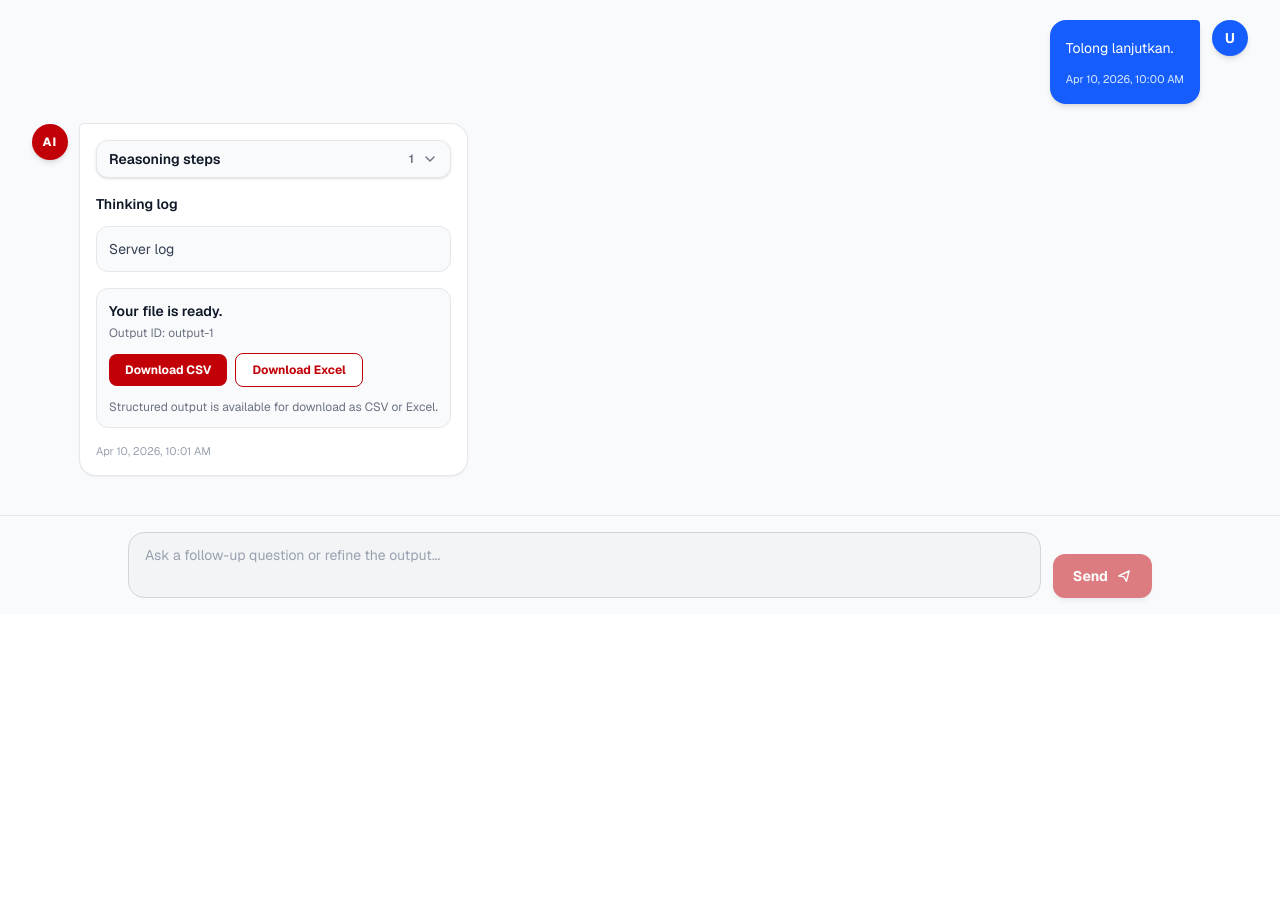
it: SessionConversationView › normalizes non-object output_json into a result object
Type "scalar out" into the text box named "Follow-up message" at (584, 565), box [128,532,1041,598]
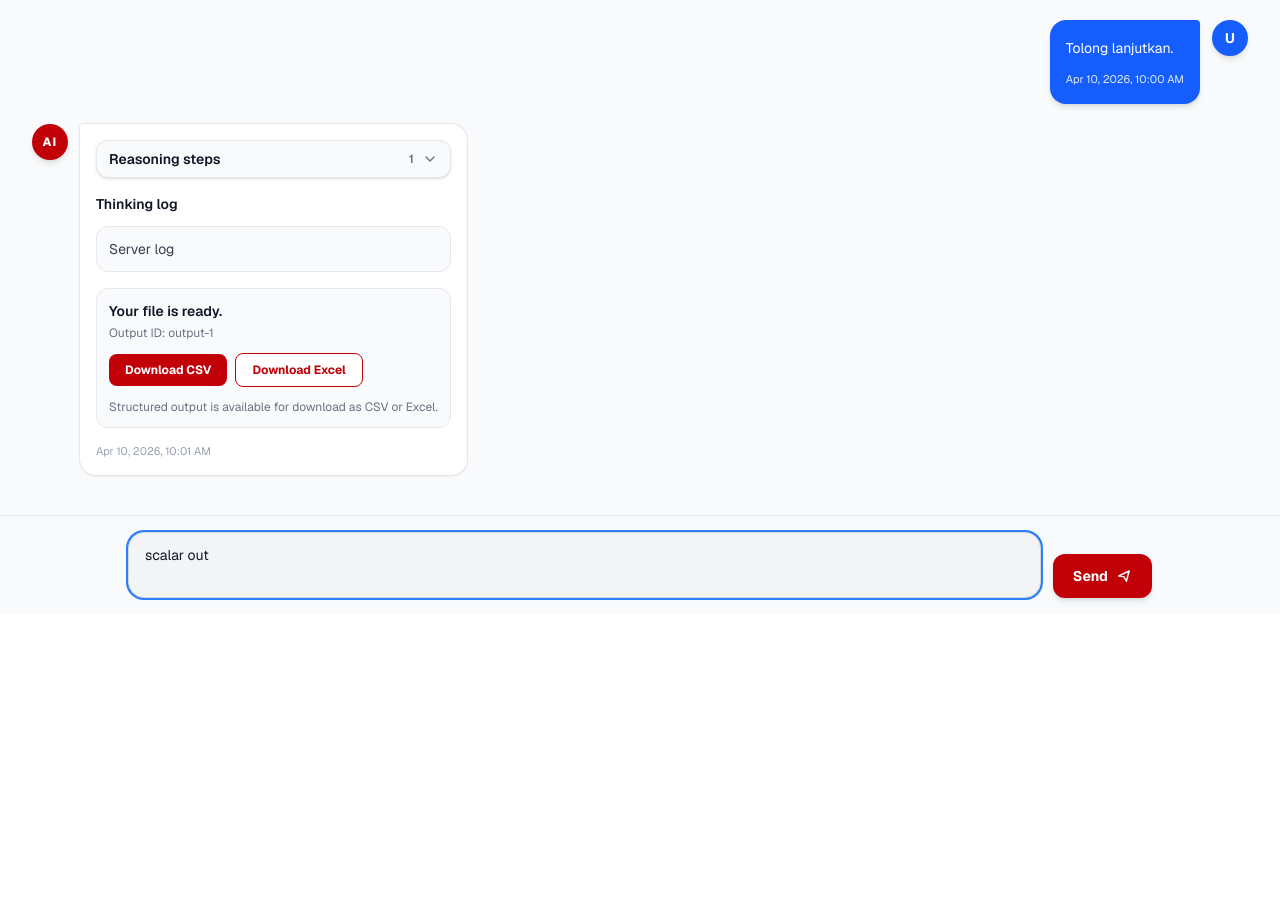
Click the button "Send" at (1102, 576), box [1053,554,1152,598]
(page scrolled)
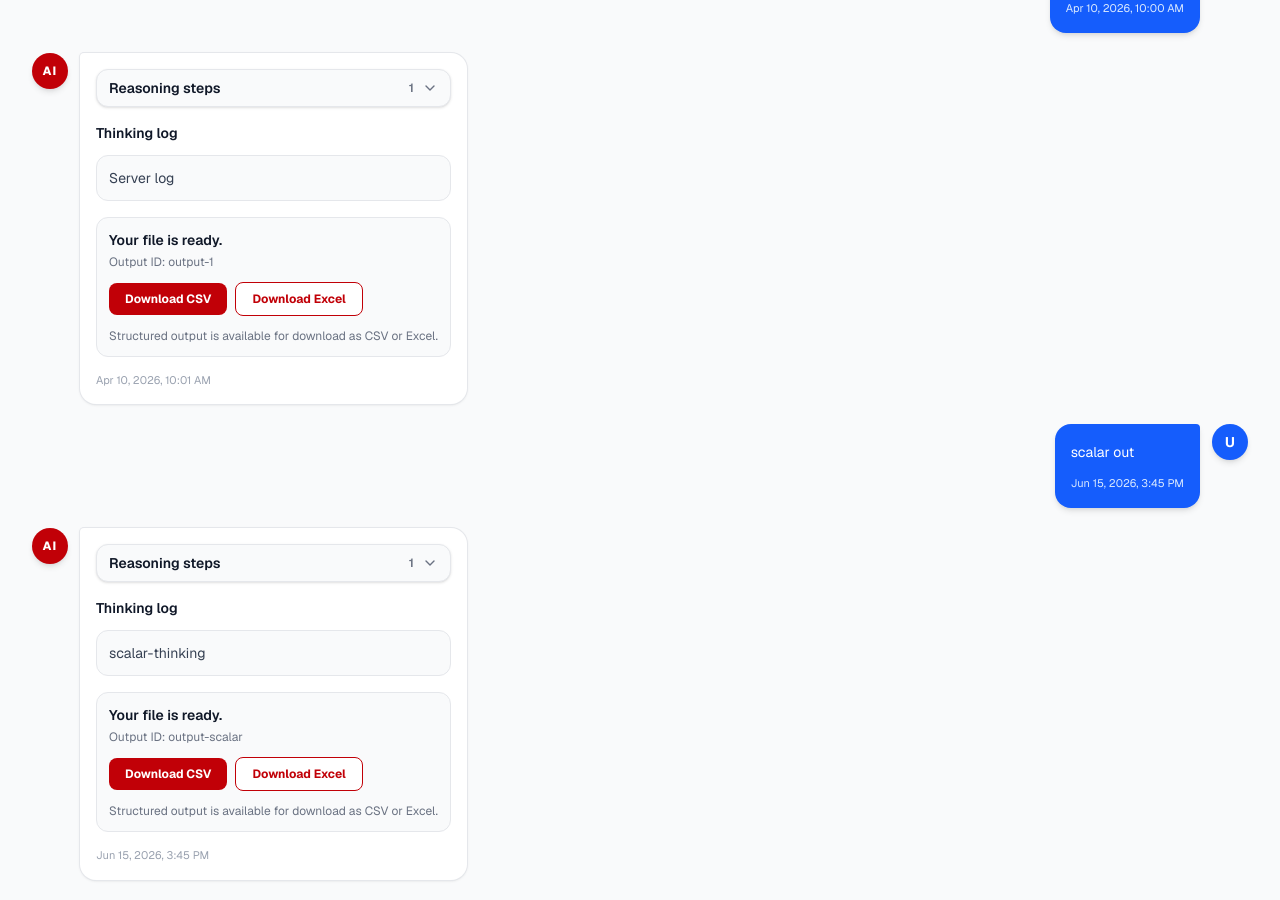
expect the text "scalar-thinking" is shown: met, box [96,630,451,676]
